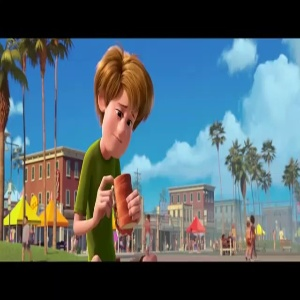Shagy: (89, 47, 162, 164)
